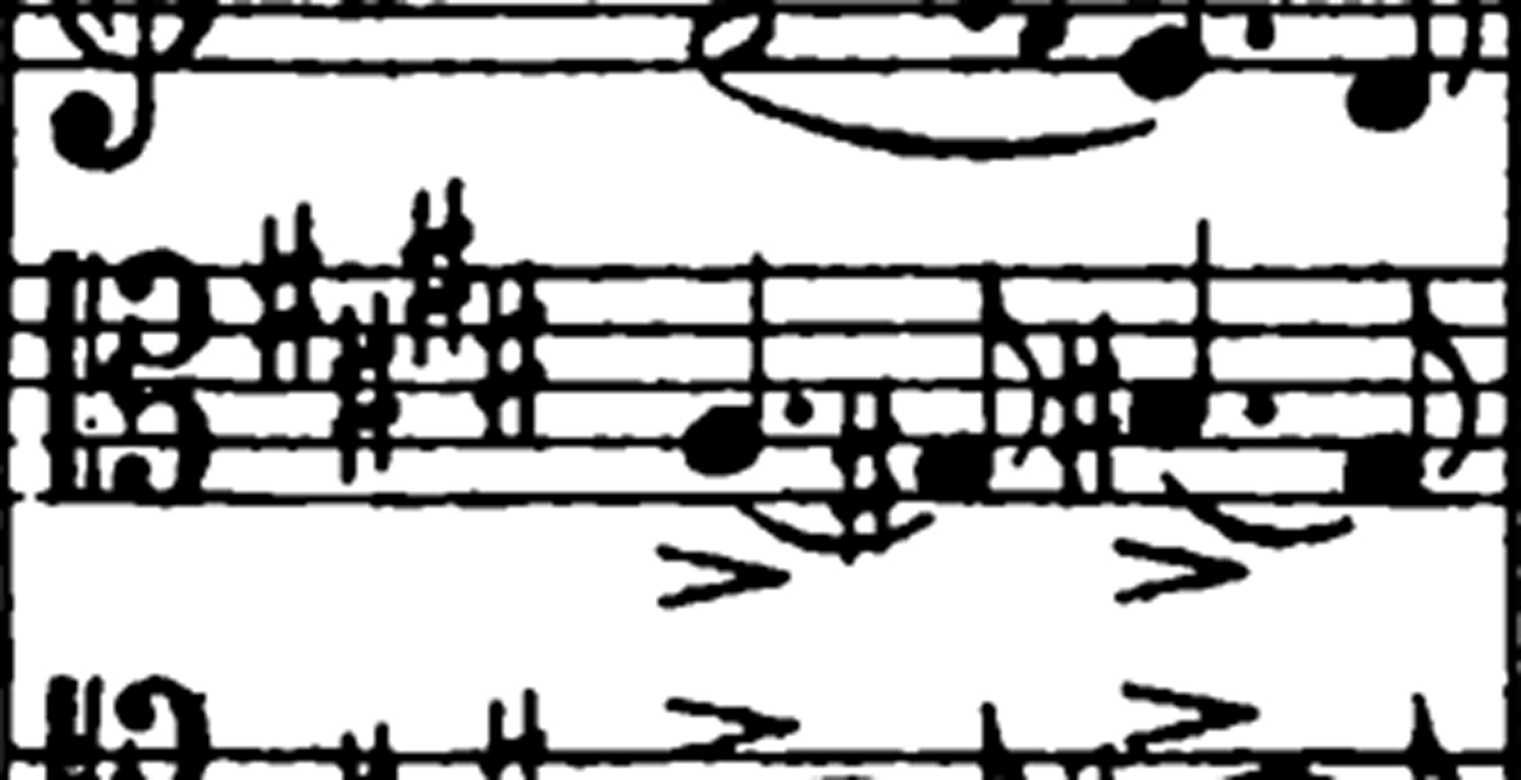beam: (1122, 682, 1260, 737), (1115, 547, 1248, 604), (657, 544, 785, 598), (656, 544, 778, 583), (665, 696, 795, 731)
clefCAlto: (30, 243, 229, 529)
noteheadBlackInSpace: (51, 92, 108, 127), (1022, 0, 1074, 38), (1019, 25, 1064, 50)
noteheadBlackOnLine: (0, 146, 13, 176), (0, 117, 13, 145)
restHBar: (7, 343, 1122, 438), (0, 231, 1122, 318), (1, 717, 1121, 780), (6, 462, 954, 534), (587, 467, 1506, 534), (4, 0, 1121, 52)
